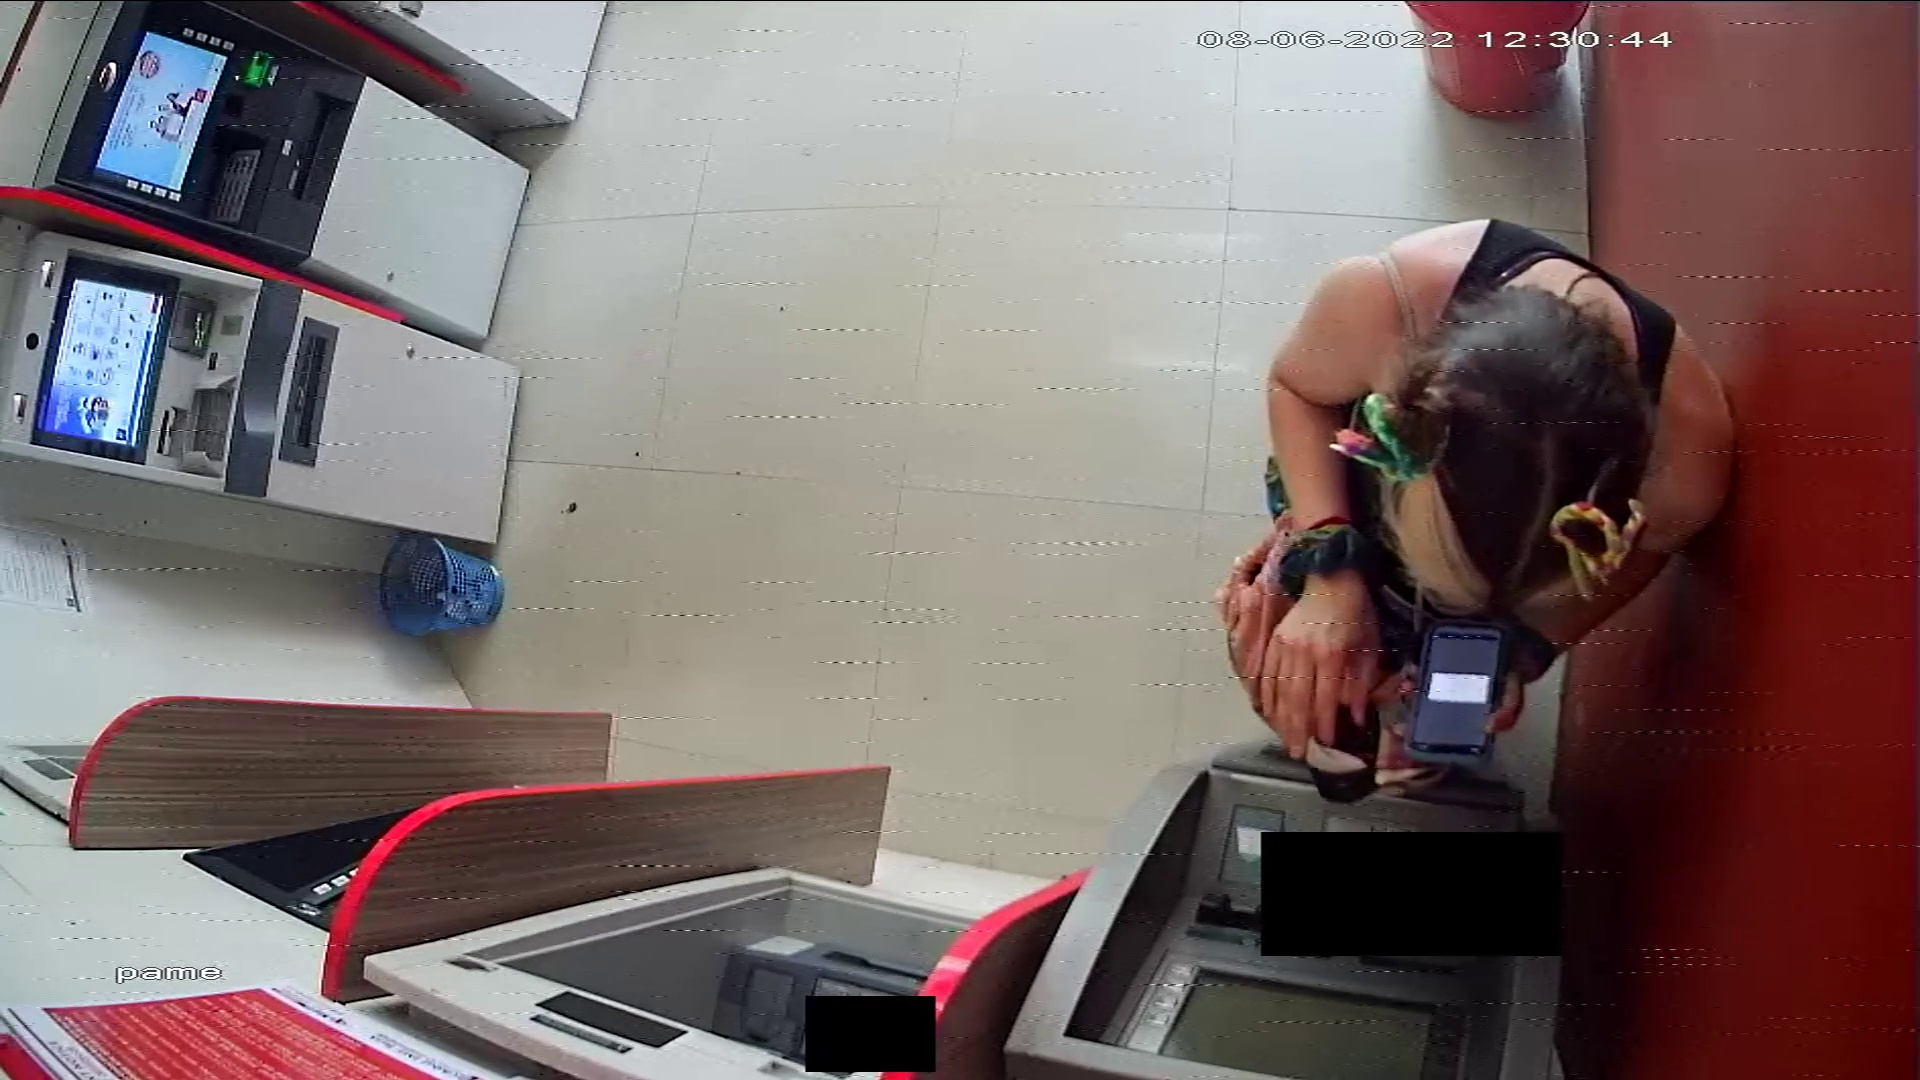person: (1259, 218, 1733, 756)
phone: (1409, 620, 1504, 760)
